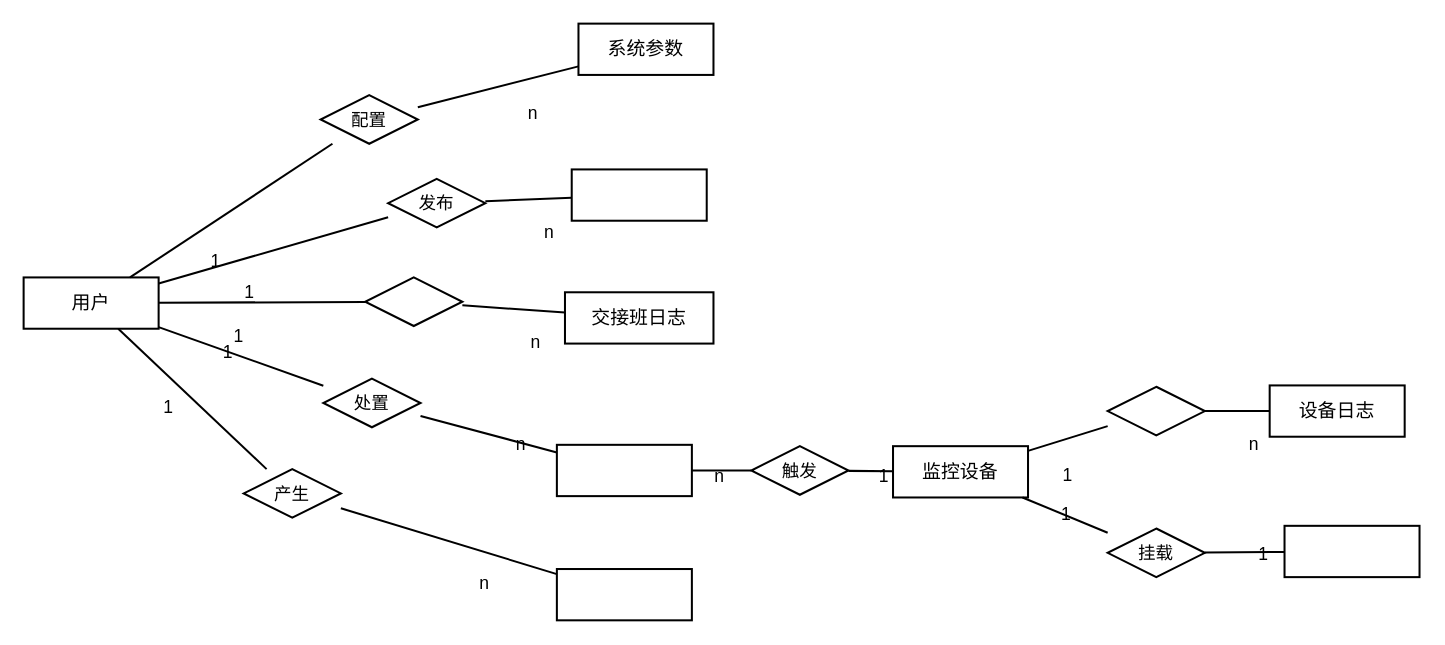
Some shapes in this 1445 by 645 pixel diagram are drawn without their labels. Each missing label, with the centre of its shape:
"SOP公告" belongs at (638,194).
"告警事件" belongs at (623,470).
"填写" belongs at (413,301).
"抓拍配置" belongs at (1351,551).
"系统日志" belongs at (623,594).
"记录" belongs at (1155,410).
